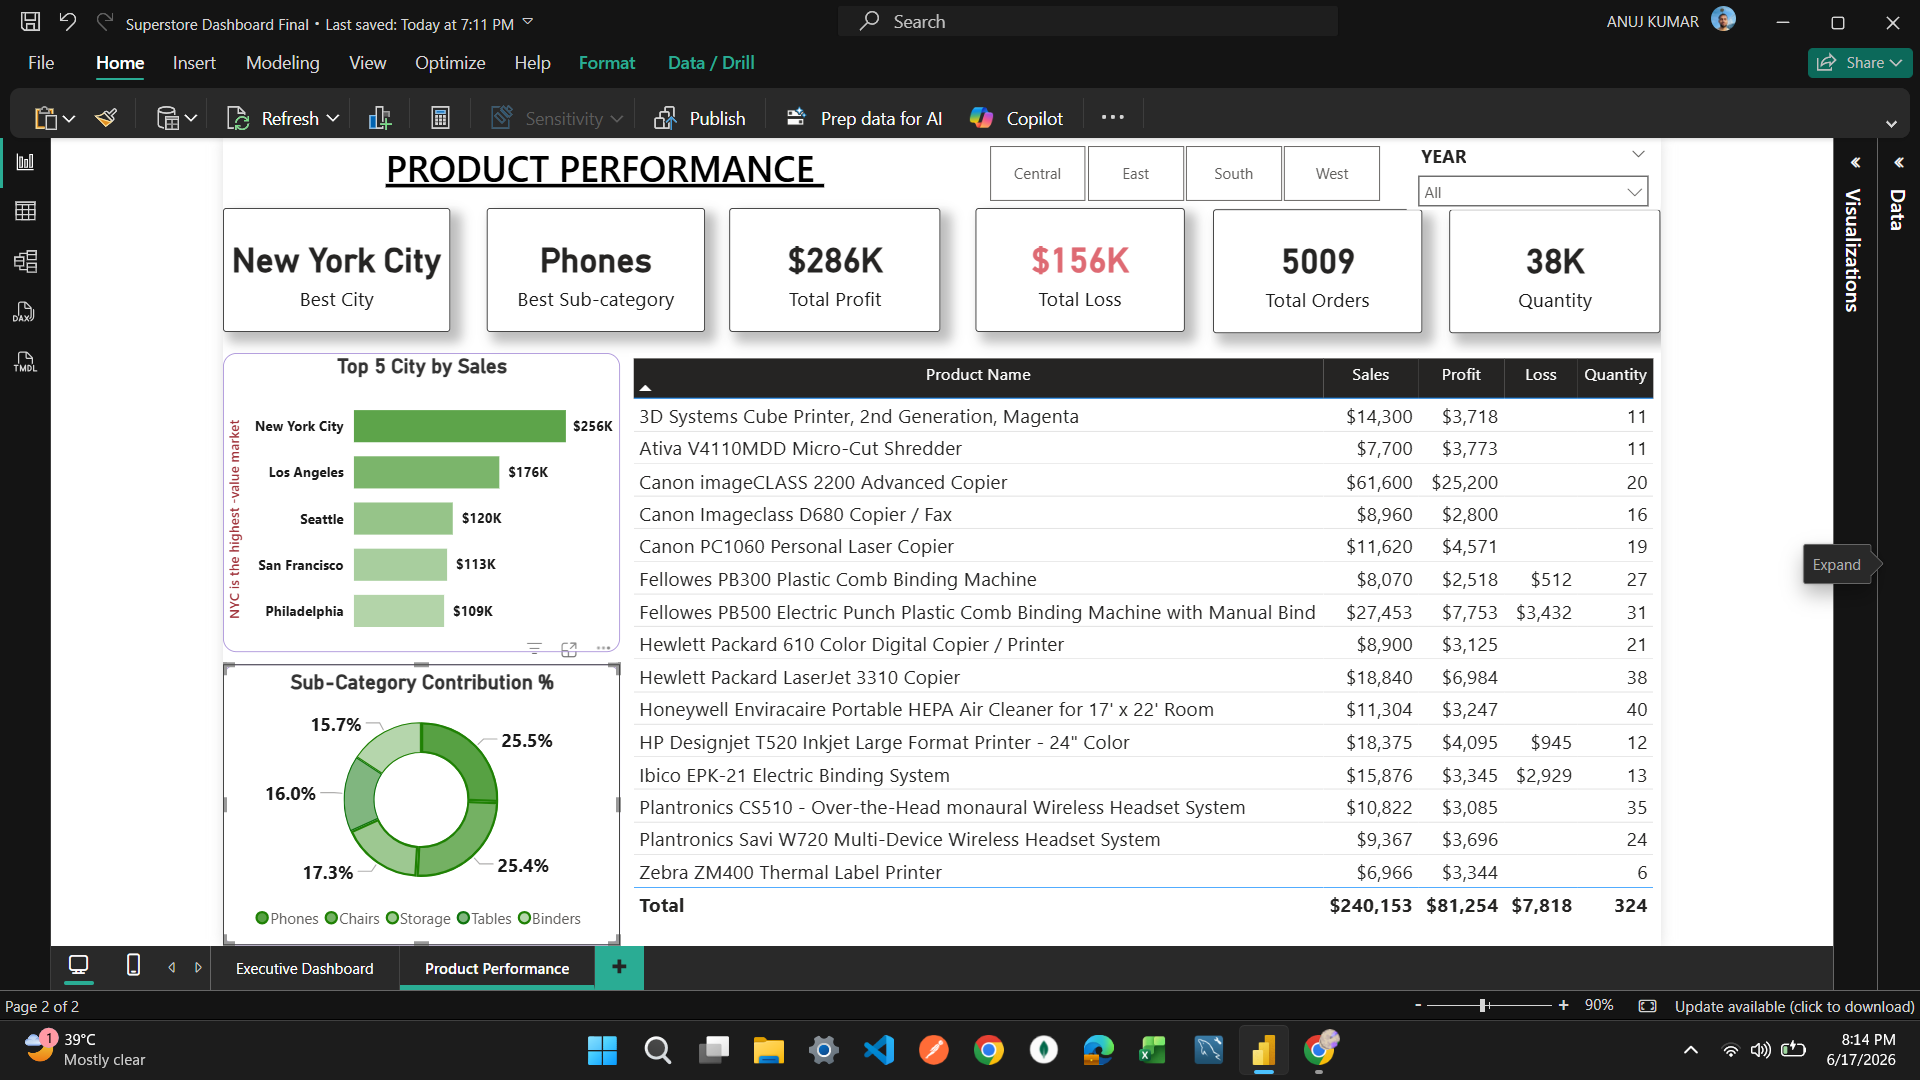

This screenshot's page, from the dashboard's own definition file:
{"tool":"powerbi","page":{"name":"Product Performance","canvas":[1280,720],"ordinal":1},"visuals":[{"type":"card","fields":{"Values":["e-commerce_python2.Best Sub-category"]},"box":[234.9,62.8,194.2,110.5],"z":0},{"type":"card","fields":{"Values":["e-commerce_python2.Total Orders"]},"box":[881.4,64,186,110.5],"z":1000},{"type":"card","fields":{"Values":["e-commerce_python2.Best City"]},"box":[0,62.8,202.3,110.5],"z":2000},{"type":"textbox","box":[0,0,680.2,62.8],"z":3000},{"type":"card","fields":{"Values":["Sum(e-commerce_python2.quantity)"]},"box":[1091.9,64,188.4,110.5],"z":4000},{"type":"donutChart","title":"Sub-Category Contribution %","fields":{"Y":["Sum(e-commerce_python2.sales)"],"Category":["e-commerce_python2.sub-category"]},"box":[0,468.7,353.4,250.3],"z":5000},{"type":"clusteredBarChart","title":"Top 5 City by Sales","fields":{"Y":["Sum(e-commerce_python2.sales)"],"Category":["e-commerce_python2.city"]},"box":[0,191.4,353.4,266.3],"z":6000},{"type":"slicer","fields":{"Values":["e-commerce_python2.region"]},"box":[657,0,397.7,62.8],"z":7000},{"type":"slicer","fields":{"Values":["e-commerce_python2.Year"]},"box":[1054.7,0,225.6,64],"z":8000},{"type":"tableEx","fields":{"Values":["e-commerce_python2.product_name","Sum(e-commerce_python2.sales)","Sum(e-commerce_python2.profit)","Sum(e-commerce_python2.Loss)","Sum(e-commerce_python2.quantity)"]},"box":[362,191.4,919,527.6],"z":9000},{"type":"card","fields":{"Values":["e-commerce_python2.Total Losses"]},"box":[669.8,62.8,186,110.5],"z":10000},{"type":"card","fields":{"Values":["Sum(e-commerce_python2.profit)"]},"box":[451.2,62.8,188.4,110.5],"z":11000}]}

Visuals, with their boxes on the page's 1280x720 design canvas (x1, y1, x2, y2). These are canvas units, not pixel positions in the 1920x1080 screenshot, which may show the page scaled, cropped or inside an application window:
card - e-commerce_python2.Best Sub-category: bbox=[235, 63, 429, 173]
card - e-commerce_python2.Total Orders: bbox=[881, 64, 1067, 174]
card - e-commerce_python2.Best City: bbox=[0, 63, 202, 173]
textbox: bbox=[0, 0, 680, 63]
card - Sum(e-commerce_python2.quantity): bbox=[1092, 64, 1280, 174]
"Sub-Category Contribution %" donutChart: bbox=[0, 469, 353, 719]
"Top 5 City by Sales" clusteredBarChart: bbox=[0, 191, 353, 458]
slicer - e-commerce_python2.region: bbox=[657, 0, 1055, 63]
slicer - e-commerce_python2.Year: bbox=[1055, 0, 1280, 64]
tableEx - e-commerce_python2.product_name x Sum(e-commerce_python2.sales): bbox=[362, 191, 1281, 719]
card - e-commerce_python2.Total Losses: bbox=[670, 63, 856, 173]
card - Sum(e-commerce_python2.profit): bbox=[451, 63, 640, 173]
